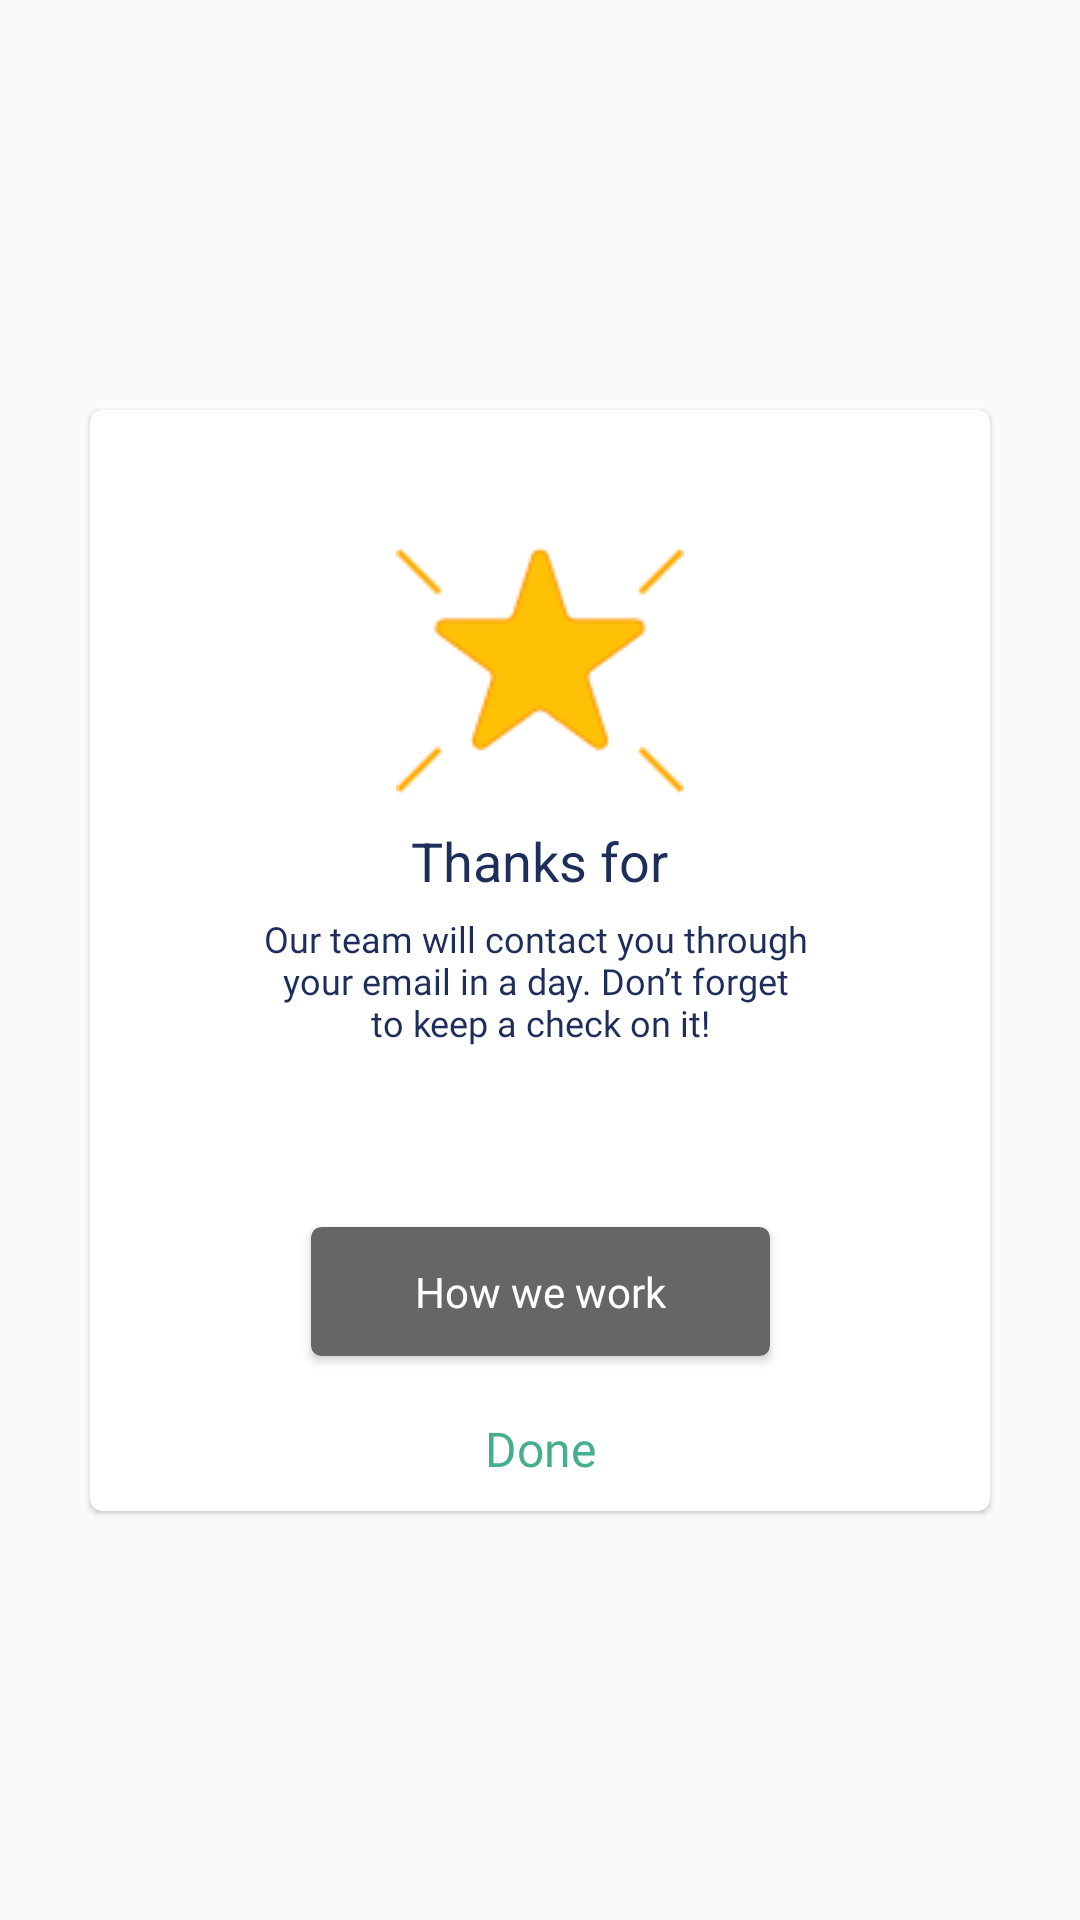

Screen size 1080×1920. Icon name, then its center in pixels as (x,y):
star: (540,670)
